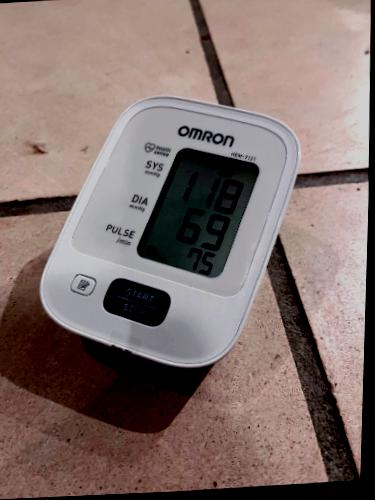bpm: (132, 132, 269, 292)
